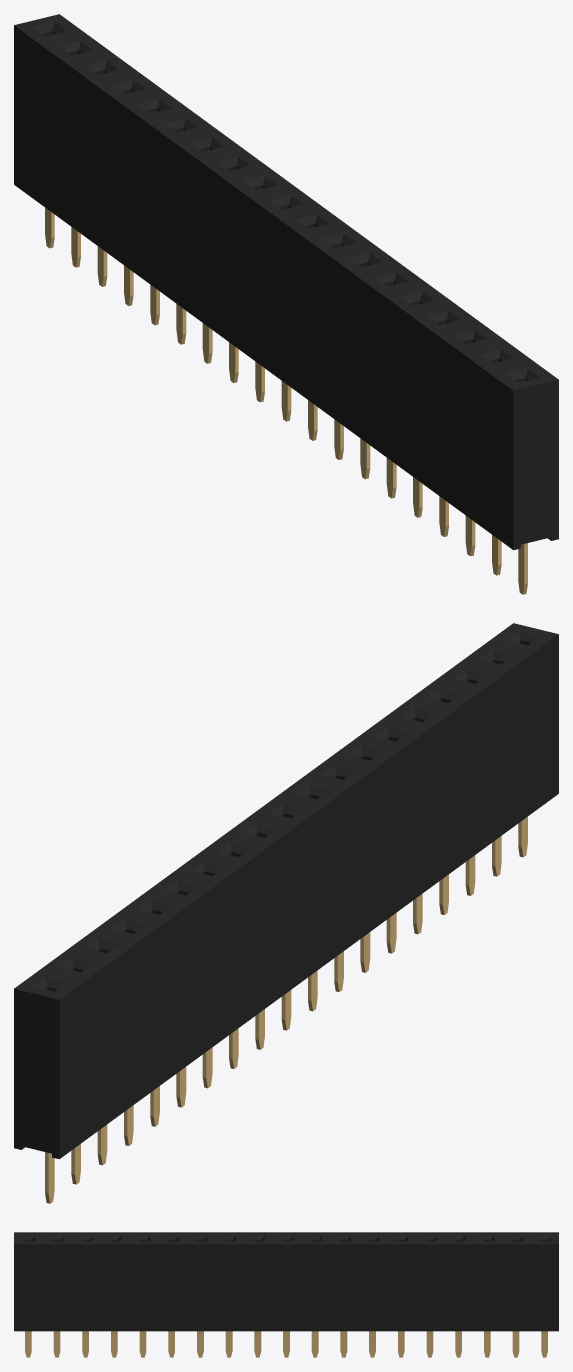
Rendered from kc-pinsocket_1x19_p2.54mm_vertical.glb.
3 renders of one model, top to bottom at view 1: azimuth 30°, elevation 25°; view 2: azimuth 150°, elevation 25°; view 3: azimuth 270°, elevation 25°, orthographic. The views are drawn at different scales.
Visible parts, largest first — view 1: 0_0_0_0, 0.75_0.5_0.25_0.9; view 2: 0_0_0_0, 0.75_0.5_0.25_0.9; view 3: 0_0_0_0, 0.75_0.5_0.25_0.9.
Boxes of the visible parts, <box> form: 0_0_0_0: <box>14,14,558,550</box>; 0.75_0.5_0.25_0.9: <box>45,207,527,594</box>; 0_0_0_0: <box>14,623,558,1159</box>; 0.75_0.5_0.25_0.9: <box>45,816,527,1203</box>; 0_0_0_0: <box>14,1232,558,1331</box>; 0.75_0.5_0.25_0.9: <box>25,1331,547,1357</box>.
Size of the model in its own units: 0.2539 by 1.16 by 4.83.
